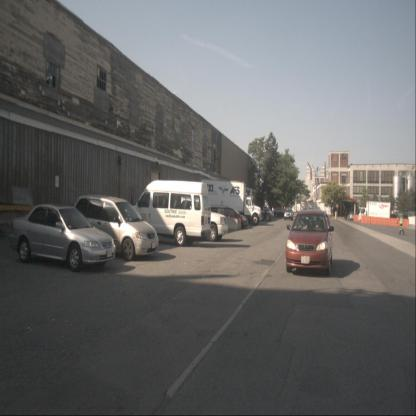movable_object-barrier: (389, 218, 399, 228), (378, 217, 389, 226), (399, 219, 408, 228), (370, 216, 378, 225), (362, 216, 370, 224), (353, 215, 361, 222)
vehicle-car: (8, 203, 116, 271), (67, 195, 159, 261), (127, 181, 211, 247), (286, 209, 334, 274), (166, 195, 228, 241), (212, 207, 248, 229), (258, 208, 274, 220), (273, 207, 287, 218), (284, 206, 293, 221), (347, 212, 354, 221)
vehicle-truck: (200, 179, 263, 225), (236, 194, 272, 222), (359, 200, 390, 223)
